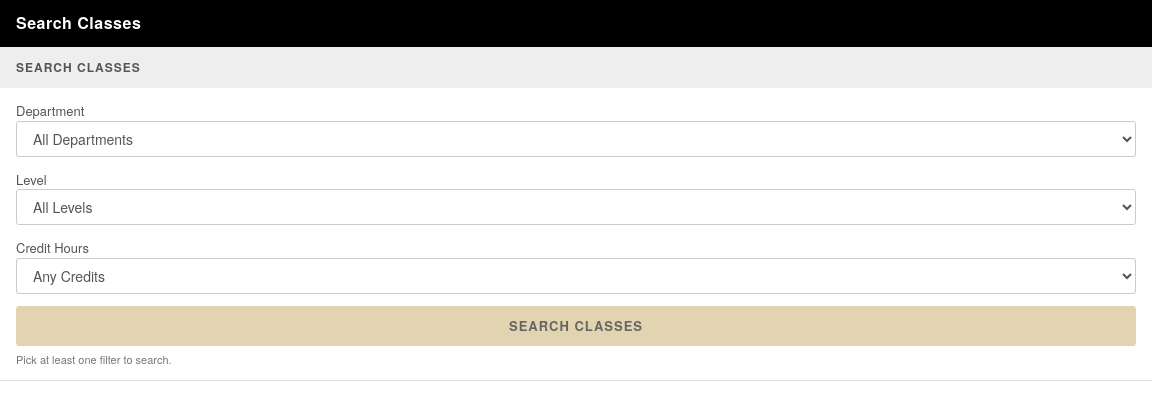
Test: FilterBar › enables SEARCH when only level is chosen
The width and height of the screenshot is (1152, 398).
Select "Undergrad Lower (1000–2999)" in the dropdown with id "filter-level" at (576, 207), box [16, 189, 1136, 225]
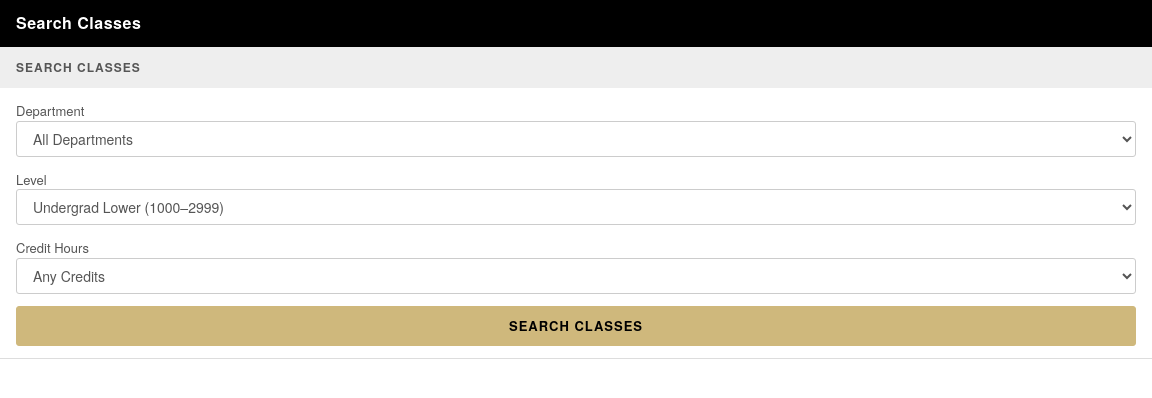
Now the button with test id "search-btn" is enabled, box [16, 306, 1136, 346]
